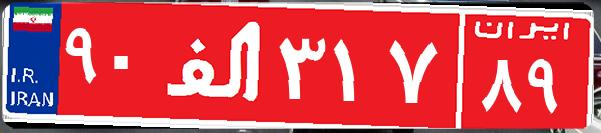0: (110, 28, 158, 105)
1: (330, 28, 385, 110)
3: (273, 28, 330, 110)
7: (385, 28, 445, 110)
8: (475, 38, 525, 113)
9: (57, 26, 110, 107), (525, 38, 570, 115)
الف: (158, 15, 273, 115)
